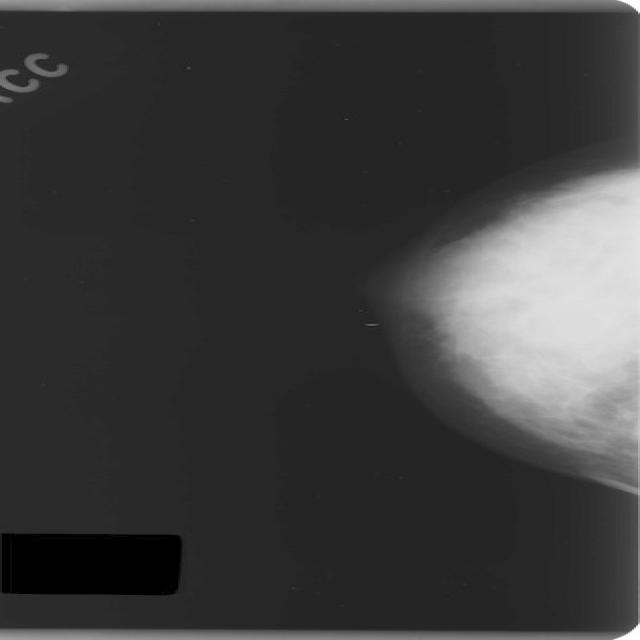tumour: (429, 168, 638, 410)
